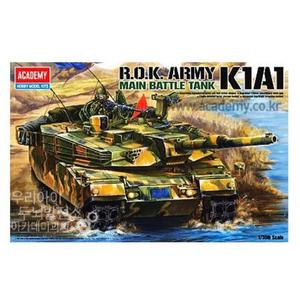Battle Tank: (17, 106, 268, 227)
